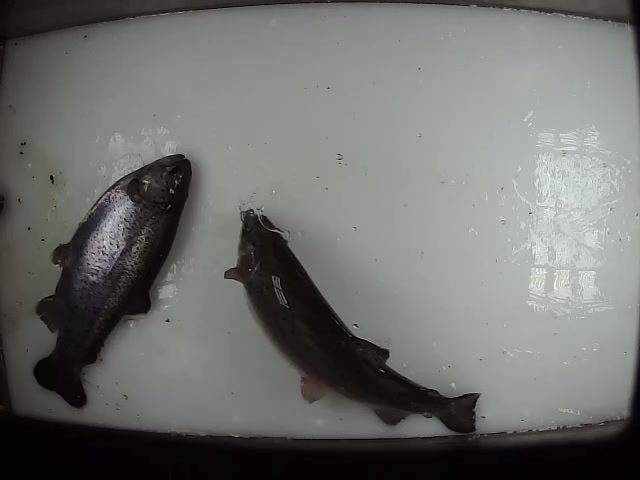fish: (220, 206, 482, 438), (32, 151, 192, 411)
